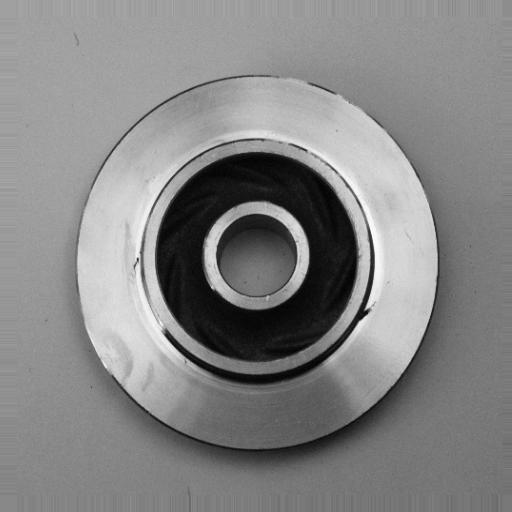crack: (350, 291, 392, 334)
scratch: (119, 238, 180, 352)
unpolished_casting: (72, 71, 443, 455)
